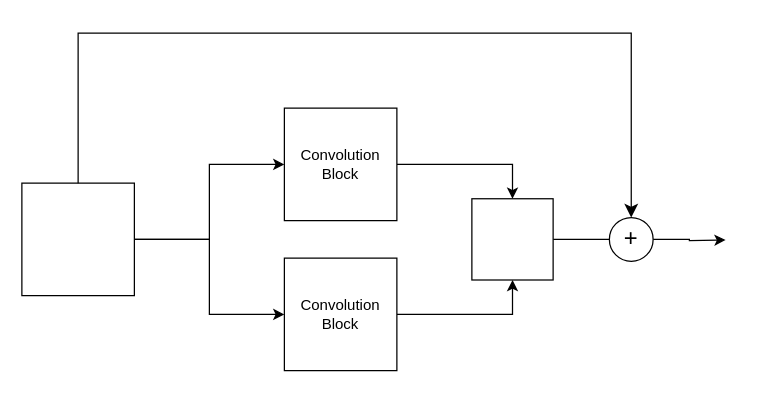
Image size: 758x393. Some labels were removed from this diagram. Here are the shapes that lost their labels. From the top down, the centre of each, then its label:
At pixel 77 239: "GSR Block".
At pixel 512 239: "Fusion Layer".
